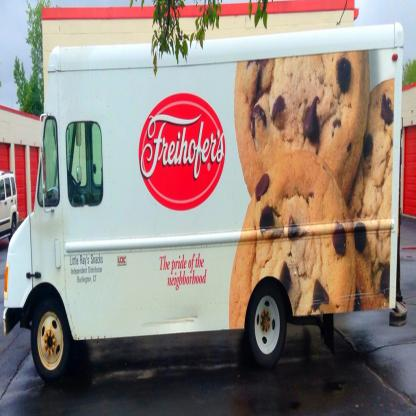Truck: (0, 19, 408, 386)
